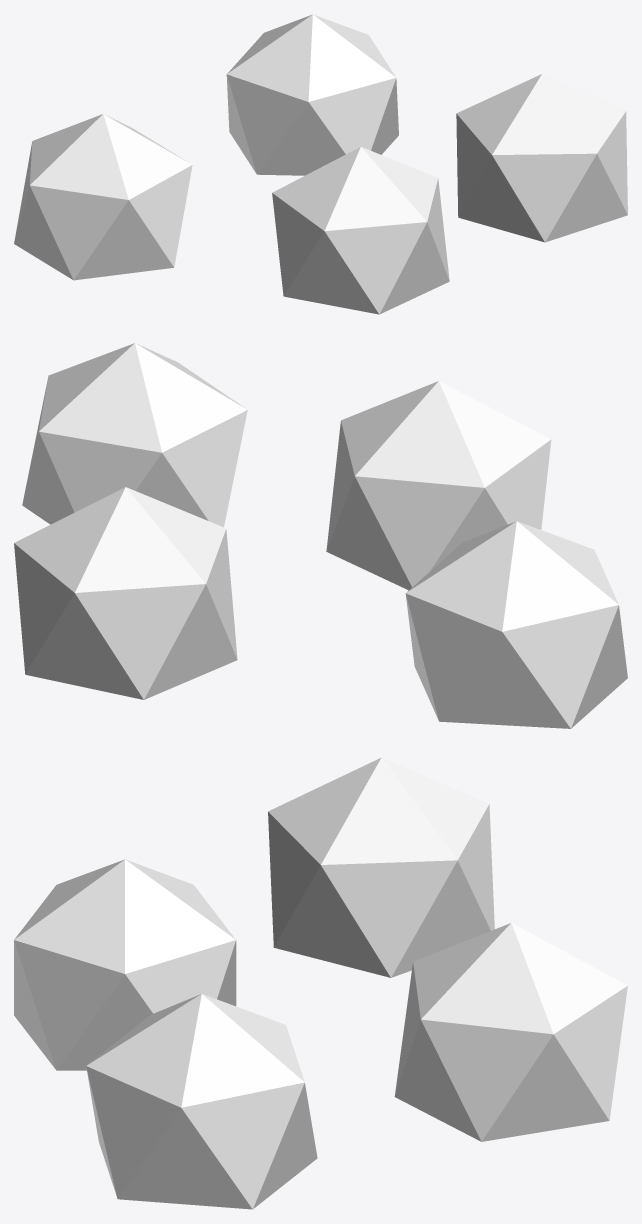
The model's file is Ore3.fbx.
3 views of the same model, one above another, from view 1: azimuth 30°, elevation 25°; view 2: azimuth 150°, elevation 25°; view 3: azimuth 270°, elevation 25° (orthographic). The views are drawn at different scales.
Visible parts, largest first — view 1: Icosphere.002; view 2: Icosphere.002; view 3: Icosphere.002.
Boxes of the visible parts, <box> form: Icosphere.002: <box>14,14,627,314</box>; Icosphere.002: <box>14,343,627,728</box>; Icosphere.002: <box>14,757,627,1209</box>.
Bounding box in the file's own units: 605 × 145 × 470.
